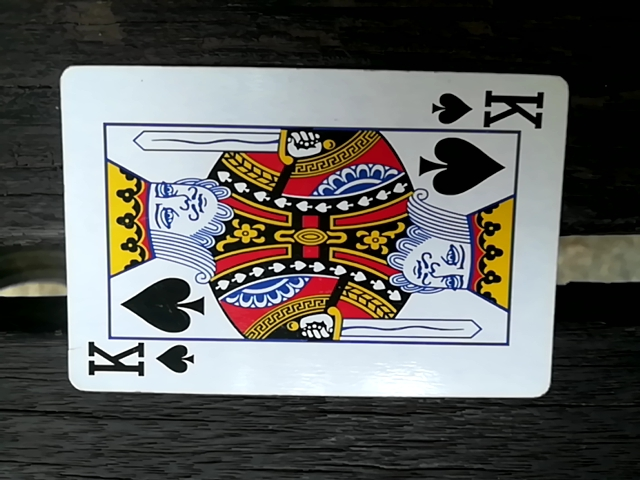ht k: (56, 68, 568, 406)
